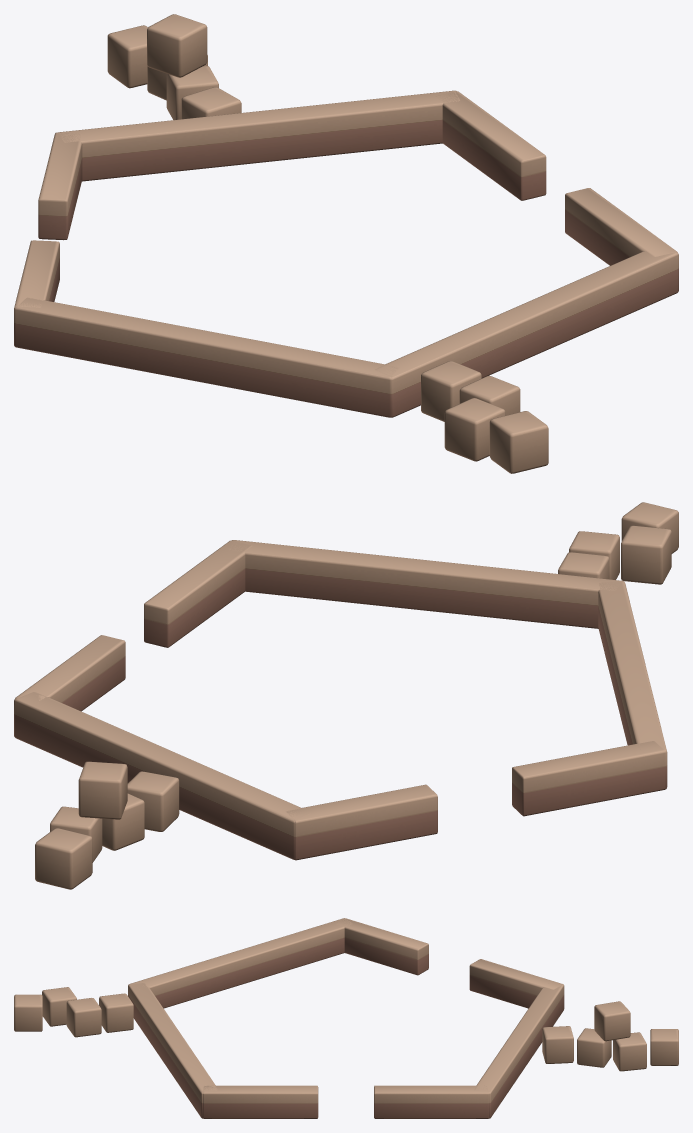
File: Props.fbx
3 renders of one model, top to bottom at view 1: azimuth 30°, elevation 25°; view 2: azimuth 150°, elevation 25°; view 3: azimuth 270°, elevation 25°, orthographic. The views are drawn at different scales.
Visible parts, largest first — view 1: Box20-3_1 (3), Box20-3_1 (9), Box20-3_1 (8), Box20-3_1 (6), Box20-3_1 (5), Box20-3_1 (10), Box1-5 (9), Box1-5 (1), Box1-5 (3), Box20-3_1 (7), Box1-5, Box1-5 (5) (+3 smaller); view 2: Box20-3_1 (8), Box20-3_1 (9), Box20-3_1 (7), Box20-3_1 (10), Box20-3_1 (3), Box20-3_1 (5), Box20-3_1 (6), Box1-5 (5), Box1-5 (3), Box1-5 (9), Box1-5 (8), Box1-5 (7) (+4 smaller); view 3: Box20-3_1 (3), Box20-3_1 (8), Box20-3_1 (9), Box20-3_1 (5), Box20-3_1 (6), Box20-3_1 (7), Box20-3_1 (10), Box1-5 (9), Box1-5 (4), Box1-5, Box1-5 (8), Box1-5 (6) (+4 smaller).
Part boxes in pixels (bbox=[...]): Box20-3_1 (3): bbox=[14, 297, 399, 417]; Box20-3_1 (9): bbox=[58, 90, 459, 181]; Box20-3_1 (8): bbox=[375, 251, 678, 417]; Box20-3_1 (6): bbox=[435, 91, 546, 200]; Box20-3_1 (5): bbox=[565, 188, 677, 265]; Box20-3_1 (10): bbox=[38, 132, 82, 240]; Box1-5 (9): bbox=[147, 14, 207, 77]; Box1-5 (1): bbox=[489, 411, 548, 473]; Box1-5 (3): bbox=[444, 398, 505, 461]; Box20-3_1 (7): bbox=[14, 240, 59, 307]; Box1-5: bbox=[421, 361, 481, 421]; Box1-5 (5): bbox=[107, 25, 147, 88]; Box20-3_1 (8): bbox=[228, 540, 623, 628]; Box20-3_1 (9): bbox=[14, 692, 310, 859]; Box20-3_1 (7): bbox=[512, 741, 665, 816]; Box20-3_1 (10): bbox=[286, 784, 437, 860]; Box20-3_1 (3): bbox=[598, 581, 667, 789]; Box20-3_1 (5): bbox=[144, 540, 251, 647]; Box20-3_1 (6): bbox=[15, 635, 125, 711]; Box1-5 (5): bbox=[35, 828, 92, 889]; Box1-5 (3): bbox=[621, 525, 671, 584]; Box1-5 (9): bbox=[78, 761, 127, 819]; Box1-5 (8): bbox=[127, 771, 179, 831]; Box1-5 (7): bbox=[102, 793, 144, 850]; Box20-3_1 (3): bbox=[129, 918, 352, 1008]; Box20-3_1 (8): bbox=[128, 983, 217, 1118]; Box20-3_1 (9): bbox=[474, 983, 564, 1118]; Box20-3_1 (5): bbox=[203, 1085, 318, 1118]; Box20-3_1 (6): bbox=[374, 1085, 488, 1118]; Box20-3_1 (7): bbox=[336, 918, 428, 975]; Box20-3_1 (10): bbox=[469, 959, 563, 1008]; Box1-5 (9): bbox=[594, 1001, 630, 1041]; Box1-5 (4): bbox=[66, 998, 101, 1037]; Box1-5: bbox=[99, 993, 133, 1032]; Box1-5 (8): bbox=[542, 1026, 573, 1063]; Box1-5 (6): bbox=[613, 1032, 646, 1071].
Bounding box in the file's own units: 21.63 × 3 × 34.6.
